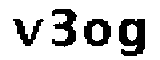3: (50, 6, 79, 52)
g: (114, 17, 149, 60)
o: (82, 16, 112, 49)
v: (9, 17, 46, 49)
